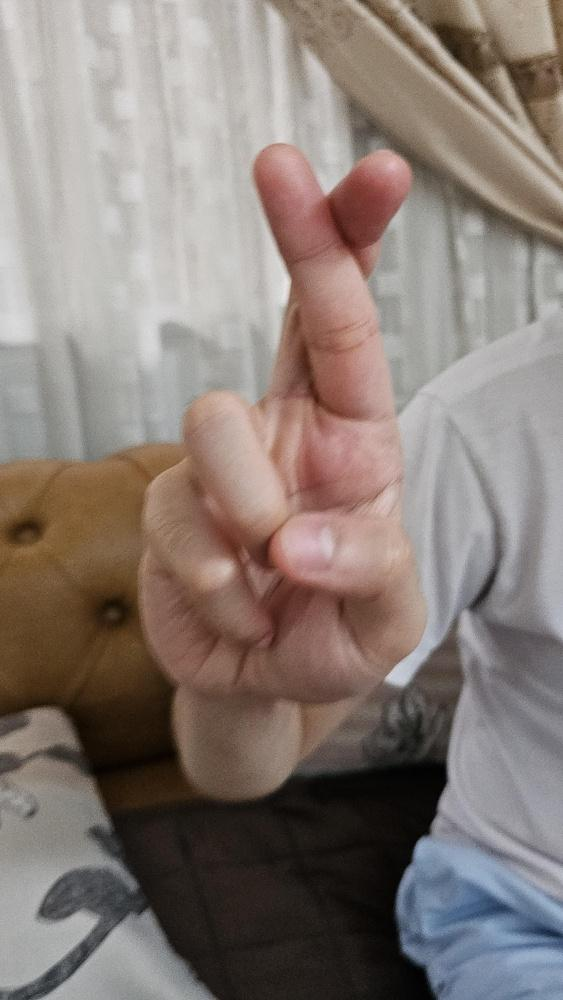r: (136, 136, 433, 706)
